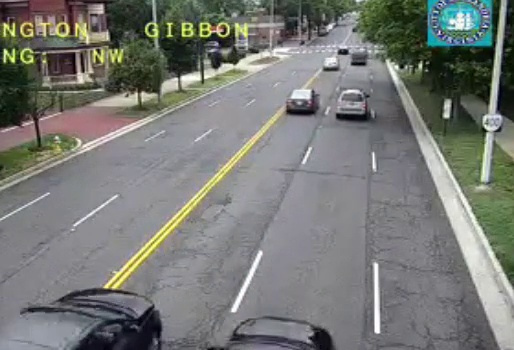car: (335, 90, 367, 116), (286, 88, 317, 113)
